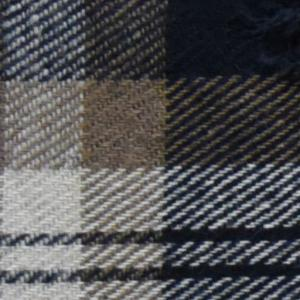Damage: (222, 1, 300, 95)
